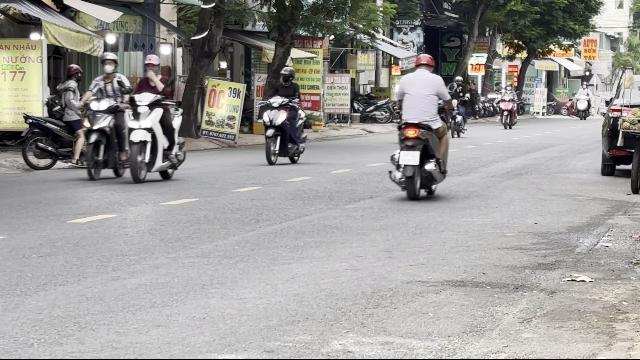helmet: (413, 52, 435, 72), (100, 50, 118, 74), (142, 54, 160, 76), (279, 66, 295, 82)
licenseplate: (400, 151, 420, 165)
motorcyclist: (387, 52, 453, 200), (126, 52, 188, 184), (75, 51, 137, 183), (258, 64, 308, 166)
